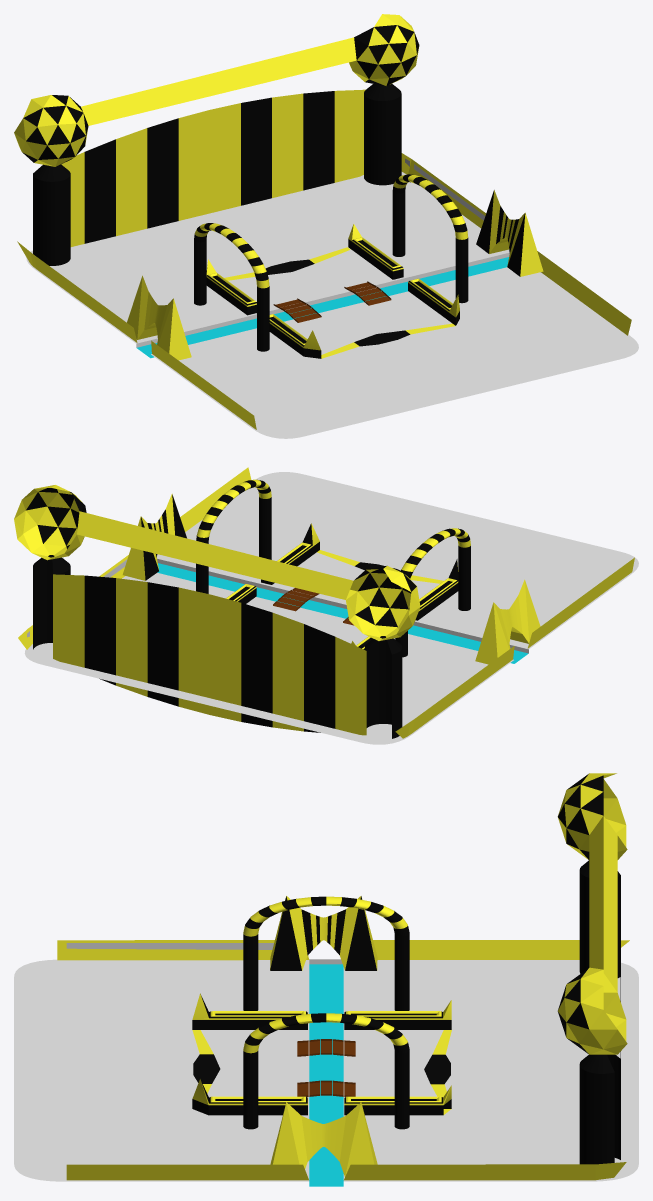
The model's file is ground.glb.
3 renders of one model, top to bottom at view 1: azimuth 30°, elevation 25°; view 2: azimuth 150°, elevation 25°; view 3: azimuth 270°, elevation 25°, orthographic. The views are drawn at different scales.
Parts seen in each view (by area): view 1: Plane, assets, border, river, bradg, bradg1; view 2: assets, Plane, border, river, bradg1; view 3: Plane, assets, border, river, bradg, bradg1.
Boxes of the visible parts, x1,y1,x2,y2 form: Plane: [26, 158, 638, 438]; assets: [14, 14, 543, 360]; border: [17, 153, 631, 429]; river: [136, 257, 508, 358]; bradg: [273, 298, 321, 322]; bradg1: [344, 281, 391, 305]; assets: [14, 479, 540, 738]; Plane: [24, 472, 638, 744]; border: [18, 467, 634, 738]; river: [157, 563, 528, 663]; bradg1: [273, 588, 319, 611]; Plane: [14, 943, 638, 1181]; assets: [192, 773, 627, 1176]; border: [57, 940, 629, 1180]; river: [309, 964, 343, 1186]; bradg: [297, 1039, 355, 1056]; bradg1: [297, 1080, 355, 1096].
Size of the model in its own units: 72.19 by 31.73 by 82.51.
